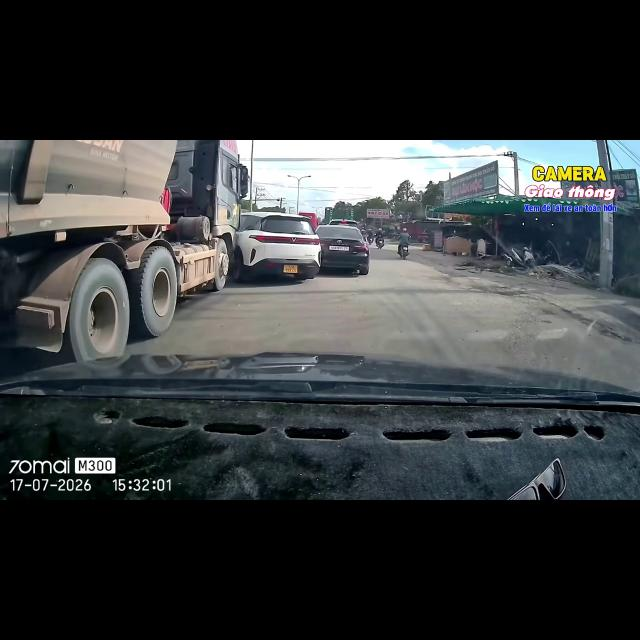car: (231, 212, 320, 282), (316, 225, 369, 275), (328, 220, 357, 227)
motorcycle: (399, 244, 408, 260), (376, 237, 384, 248), (368, 236, 373, 244)
truck: (0, 140, 248, 361)
